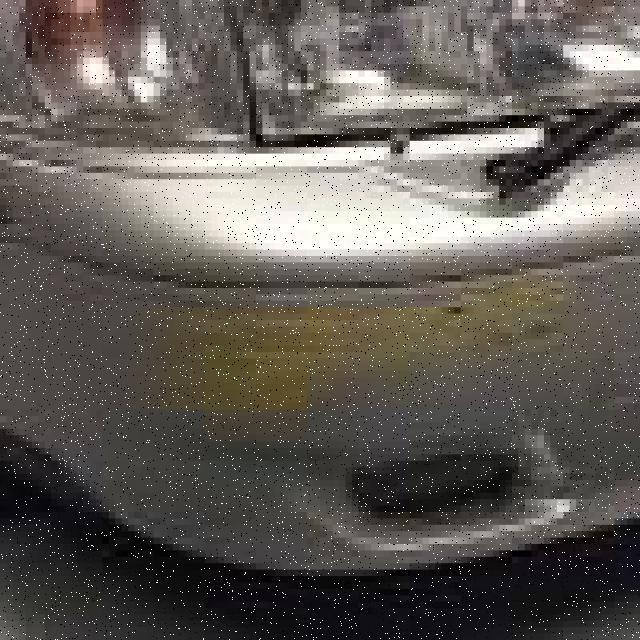hood: (0, 115, 634, 621)
